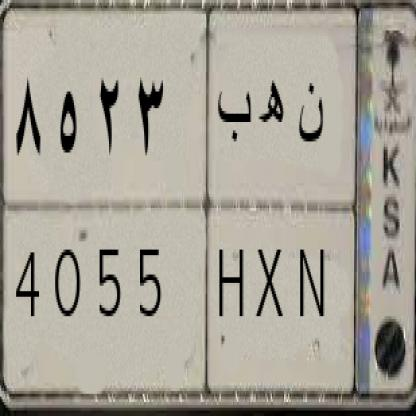english: (0, 204, 363, 408)
